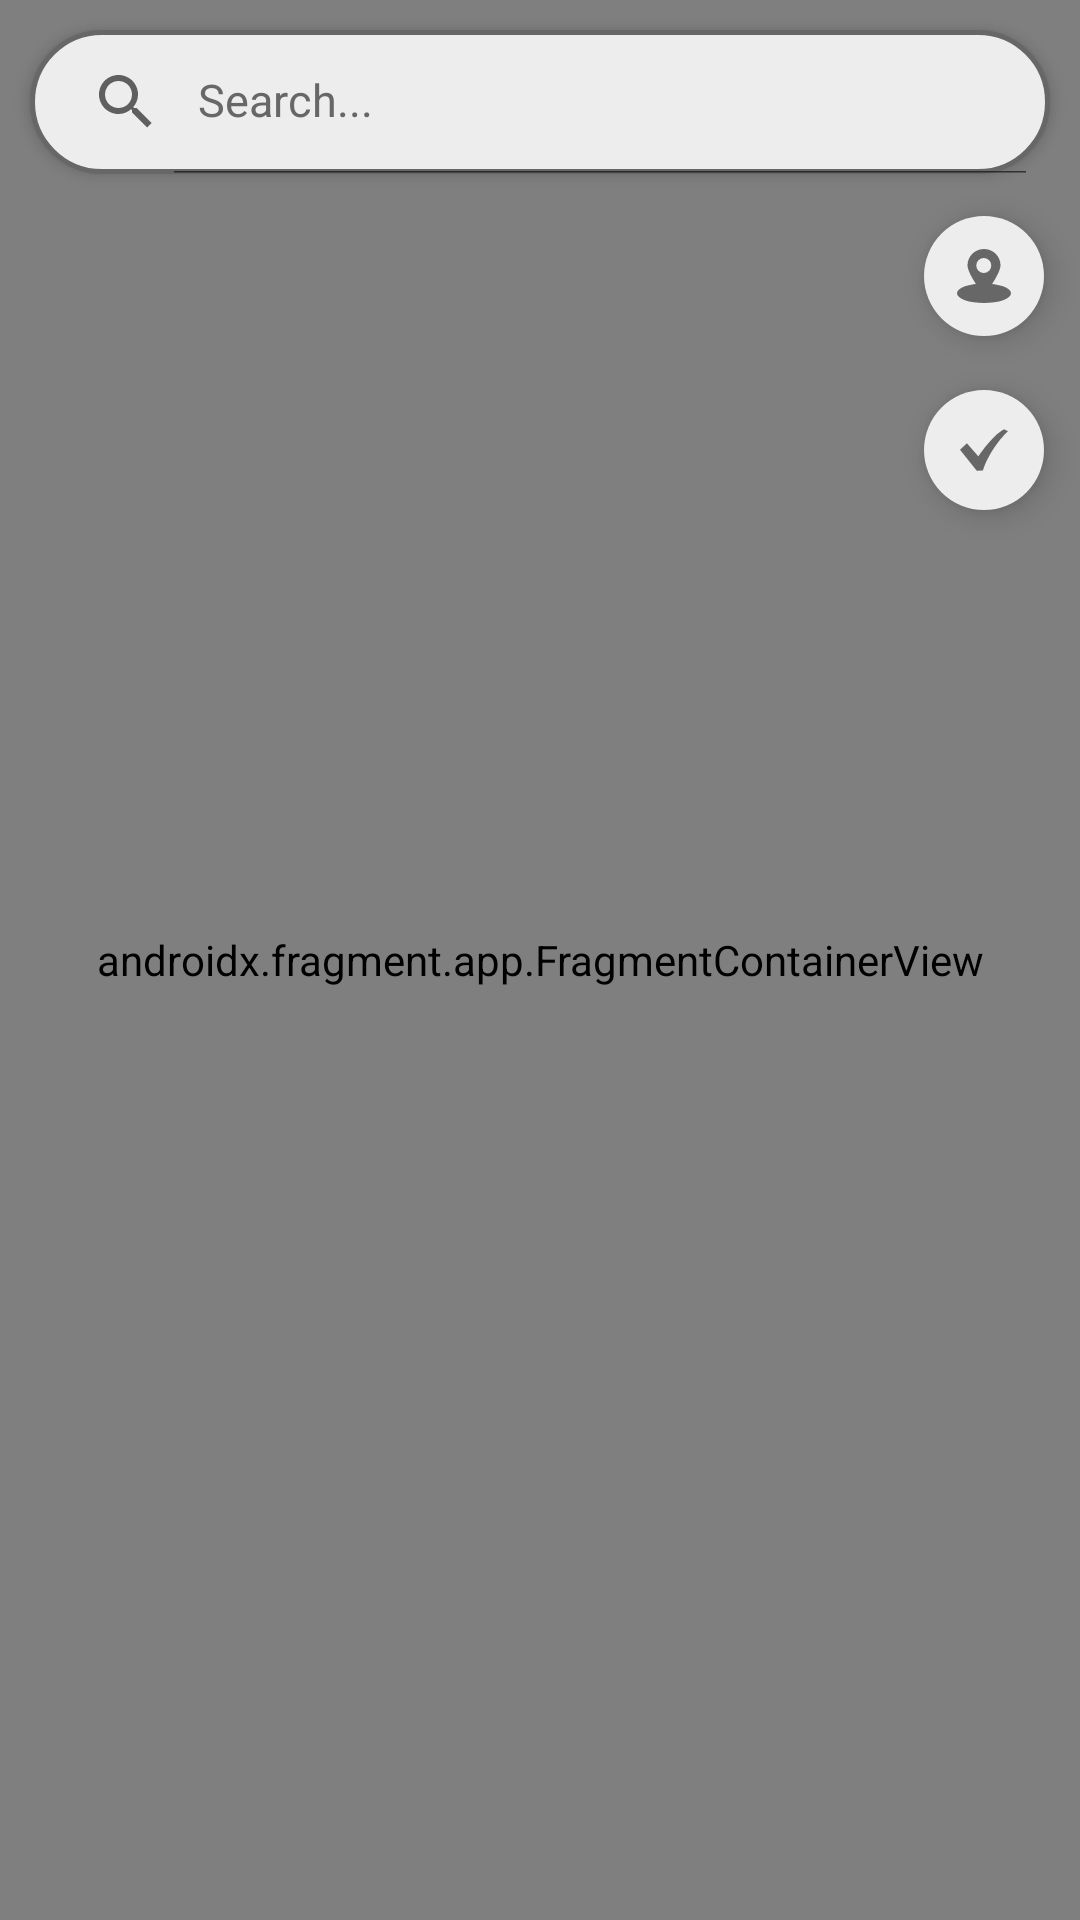

Where icons sit on this 1080×1920 app screen, as (x1, y1, x2, y2):
done: (924, 390, 1044, 510)
